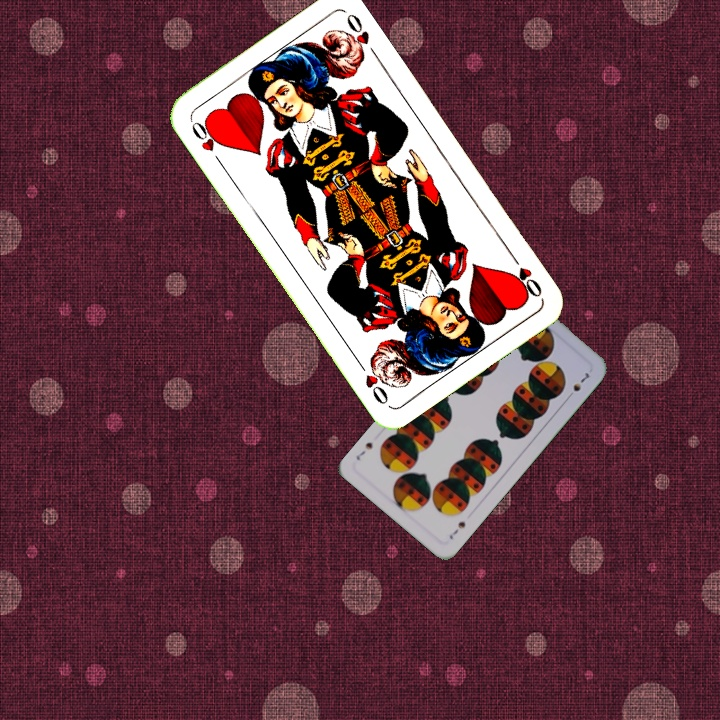HO: (186, 116, 226, 168), (506, 248, 545, 301)
S7: (445, 517, 468, 542)
